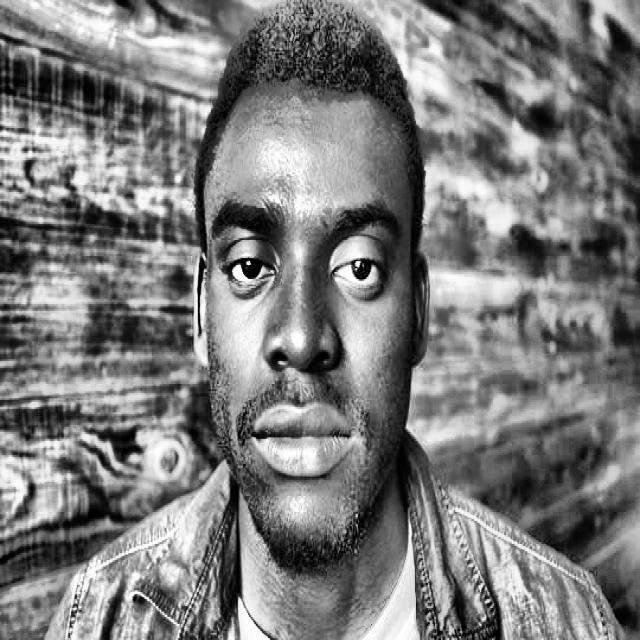neutral: (181, 0, 436, 564)
